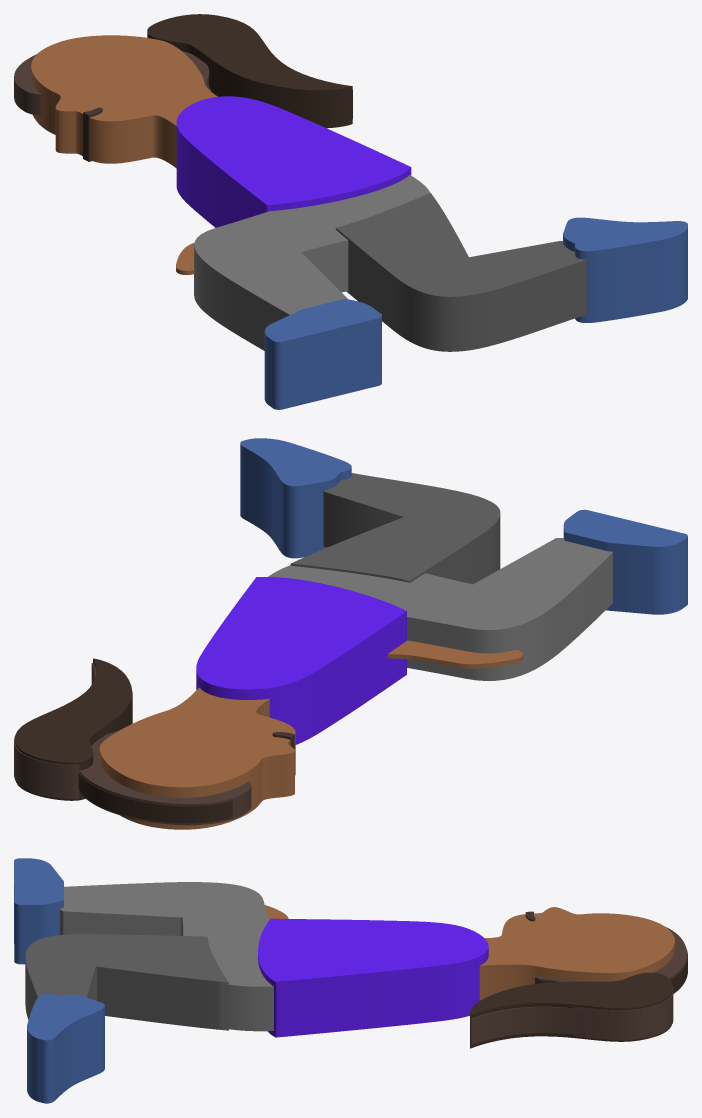
Rendered from emoji_u1f9ce_1f3fe_200d_2640.glb.
The picture shows the model from 3 angles, top to bottom: view 1: azimuth 30°, elevation 25°; view 2: azimuth 150°, elevation 25°; view 3: azimuth 270°, elevation 25°; orthographic projection. The views are drawn at different scales.
Visible parts, largest first — view 1: emoji_u1f9ce_1f3fe_200d_2640; view 2: emoji_u1f9ce_1f3fe_200d_2640; view 3: emoji_u1f9ce_1f3fe_200d_2640.
Boxes of the visible parts, x1,y1,x2,y2 form: emoji_u1f9ce_1f3fe_200d_2640: [14, 14, 687, 409]; emoji_u1f9ce_1f3fe_200d_2640: [14, 438, 687, 829]; emoji_u1f9ce_1f3fe_200d_2640: [14, 858, 687, 1103].
Size of the model in its own units: 0.0212 by 0.0034 by 0.0329.
